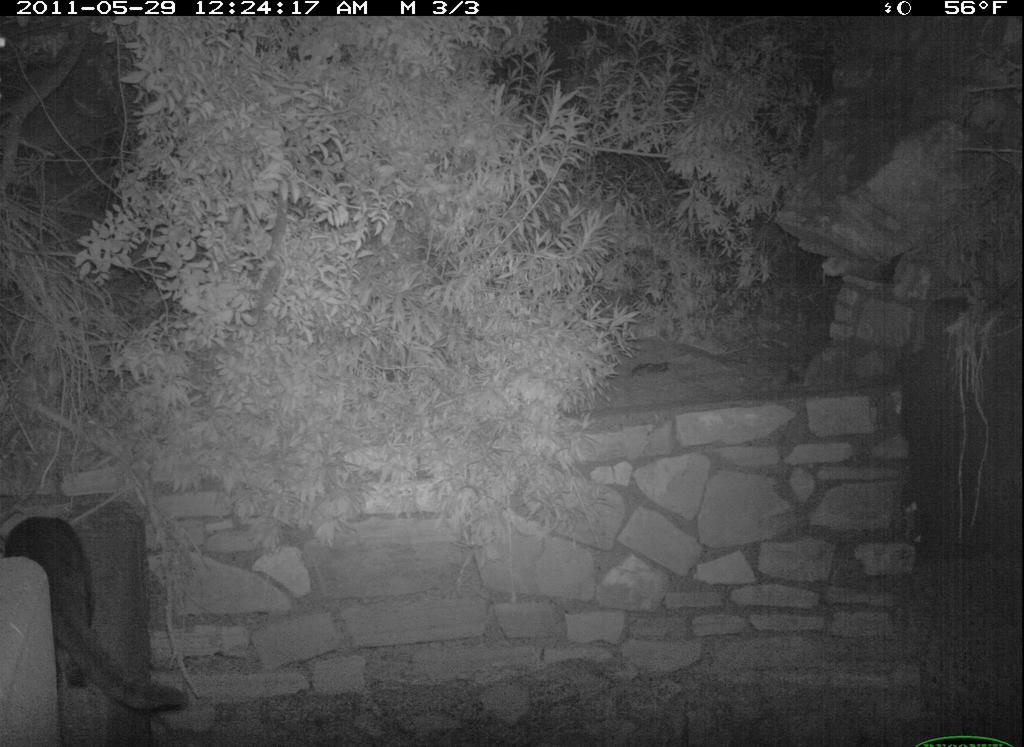cat: (12, 500, 209, 729)
